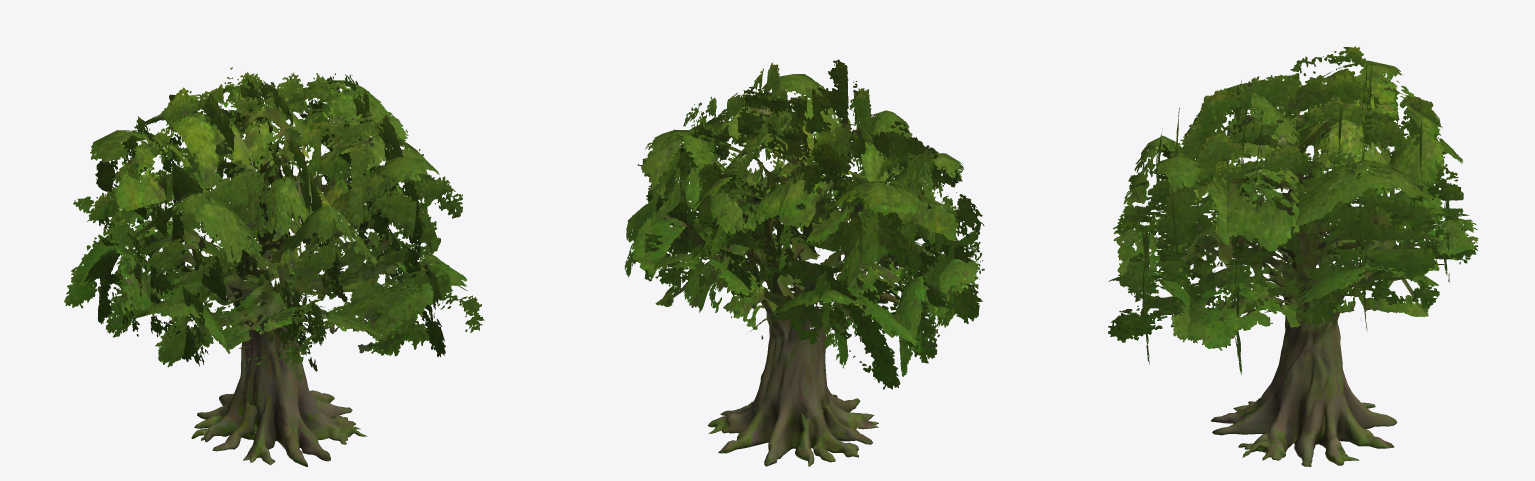
The model's file is tree-1521-near.glb.
3 renders of one model, left to right at view 1: azimuth 30°, elevation 25°; view 2: azimuth 150°, elevation 25°; view 3: azimuth 270°, elevation 25°, orthographic. The views are drawn at different scales.
Visible parts, largest first — view 1: Foliage, Wood; view 2: Foliage, Wood; view 3: Foliage, Wood.
Part boxes in pixels (x1,y1,x2,y2): Foliage: [64, 67, 484, 371]; Wood: [184, 115, 378, 466]; Foliage: [624, 59, 984, 389]; Wood: [708, 105, 898, 466]; Foliage: [1108, 46, 1478, 374]; Wood: [1158, 134, 1444, 466].
Bounding box in the file's own units: 14.12 × 12.65 × 14.33.
Materials: 2 (2 with a texture image).
